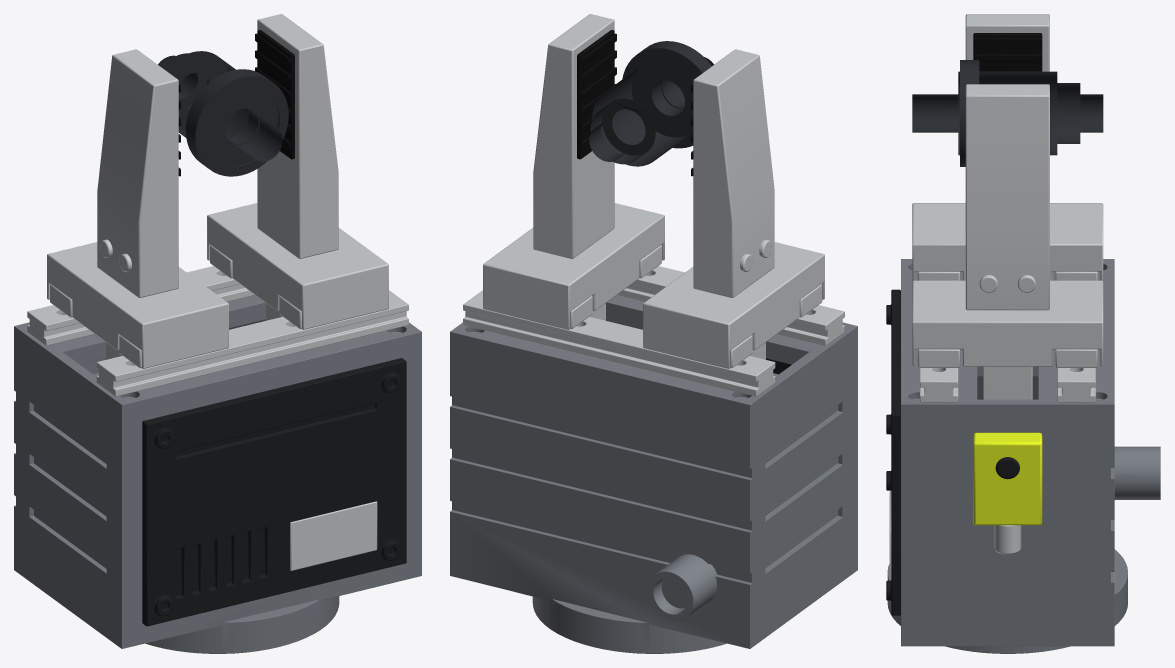
The model's file is pinza.glb.
3 views of the same model, side by side, from view 1: azimuth 30°, elevation 25°; view 2: azimuth 150°, elevation 25°; view 3: azimuth 270°, elevation 25° (orthographic).
Visible parts, largest first — view 1: carcasa, tapa, mordaza_izq, mordaza_der, pieza, guia_izq, guia_der; view 2: carcasa, mordaza_izq, mordaza_der, pieza, guia_der, guia_izq; view 3: carcasa, mordaza_der, mordaza_izq, sensor, pieza, tapa, guia_izq, guia_der.
Boxes of the visible parts, left/top/right/bottom form: carcasa: left=14, top=295, right=421, bottom=653; tapa: left=142, top=358, right=406, bottom=626; mordaza_izq: left=47, top=49, right=228, bottom=368; mordaza_der: left=207, top=14, right=388, bottom=329; pieza: left=158, top=51, right=288, bottom=176; guia_izq: left=96, top=290, right=408, bottom=396; guia_der: left=27, top=266, right=254, bottom=345; carcasa: left=450, top=295, right=857, bottom=653; mordaza_izq: left=643, top=49, right=824, bottom=368; mordaza_der: left=483, top=14, right=664, bottom=329; pieza: left=589, top=41, right=713, bottom=166; guia_der: left=463, top=290, right=775, bottom=396; guia_izq: left=617, top=266, right=844, bottom=345; carcasa: left=887, top=259, right=1160, bottom=653; mordaza_der: left=912, top=84, right=1103, bottom=399; mordaza_izq: left=912, top=14, right=1103, bottom=281; sensor: left=973, top=432, right=1042, bottom=554; pieza: left=912, top=60, right=1103, bottom=166; tapa: left=886, top=289, right=900, bottom=615; guia_izq: left=920, top=368, right=958, bottom=402; guia_der: left=1057, top=368, right=1095, bottom=402.
Size of the model in its own units: 0.098 by 0.1585 by 0.0718.
